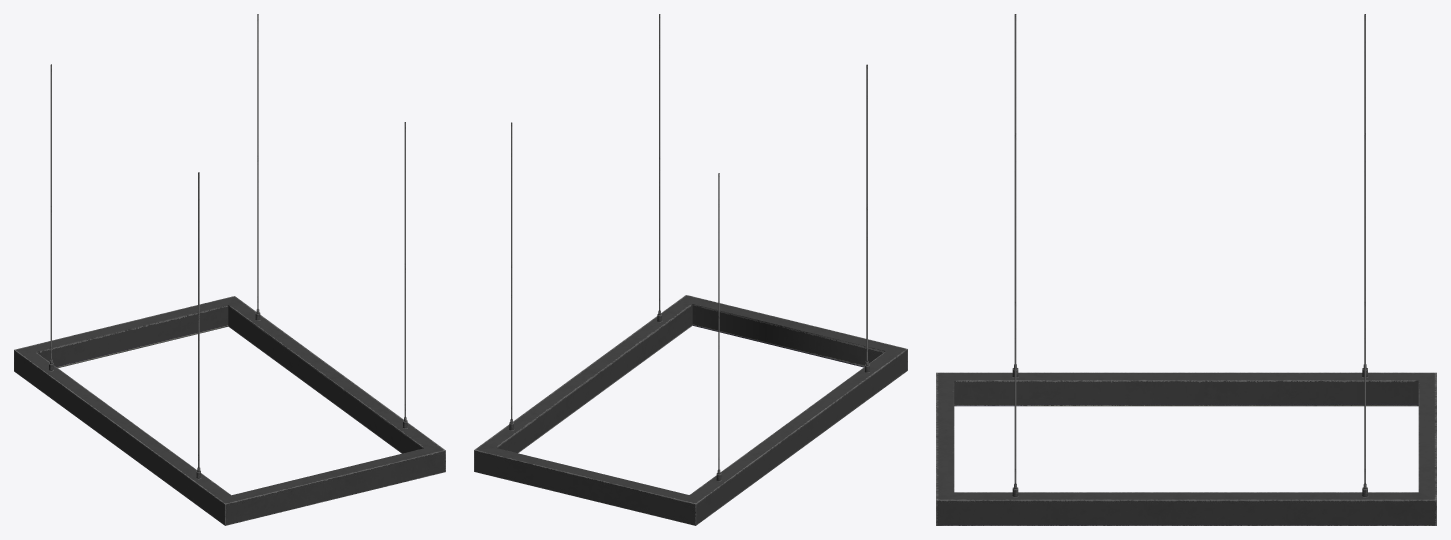
The model's file is ARC0810062.fbx.
3 views of the same model, side by side, from view 1: azimuth 30°, elevation 25°; view 2: azimuth 150°, elevation 25°; view 3: azimuth 270°, elevation 25° (orthographic). The views are drawn at different scales.
Visible parts, largest first — view 1: smARC0810062; view 2: smARC0810062; view 3: smARC0810062.
Boxes of the visible parts, x1,y1,x2,y2 form: smARC0810062: (14, 14, 445, 525); smARC0810062: (474, 14, 907, 525); smARC0810062: (936, 14, 1436, 525).
Size of the model in its own units: 68.68 by 97.22 by 114.
1 material, 1 textured.
